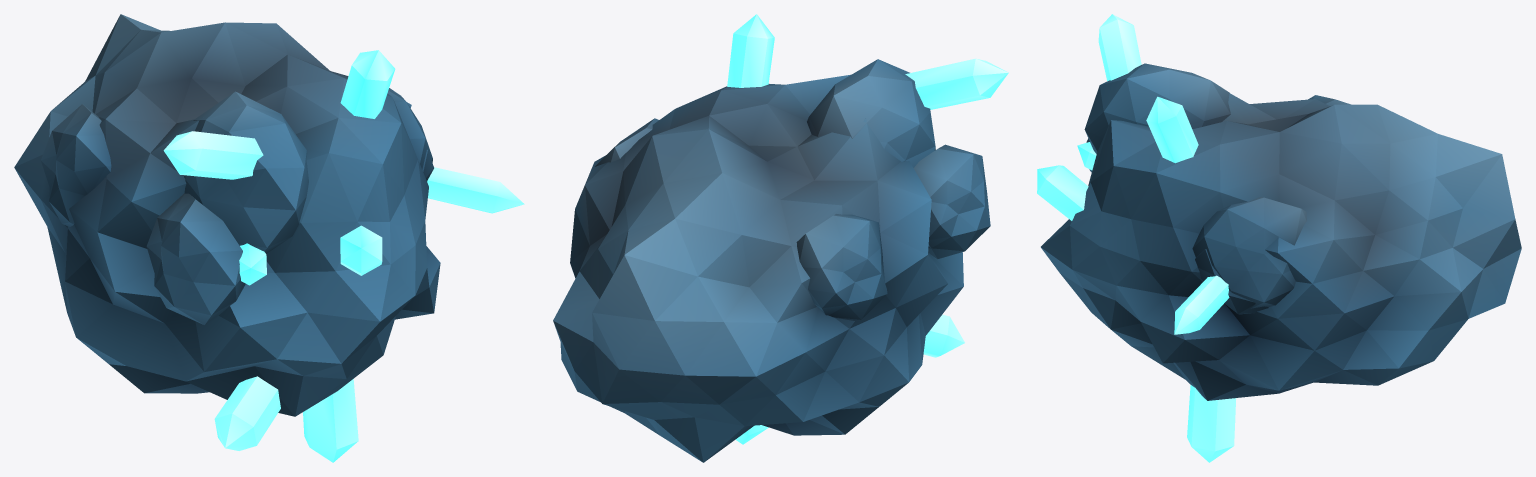
Rendered from cometa-hermano-juego.glb.
3 views of the same model, side by side, from view 1: azimuth 30°, elevation 25°; view 2: azimuth 150°, elevation 25°; view 3: azimuth 270°, elevation 25° (orthographic). The views are drawn at different scales.
Visible parts, largest first — view 1: Nucleo, Cristales; view 2: Nucleo, Cristales; view 3: Nucleo, Cristales.
Part boxes in pixels (<box>): Nucleo: <box>14,14,440,416</box>; Cristales: <box>163,50,524,462</box>; Nucleo: <box>553,59,990,462</box>; Cristales: <box>727,14,1008,444</box>; Nucleo: <box>1041,63,1521,400</box>; Cristales: <box>1037,14,1236,462</box>.
Size of the model in its own units: 1.81 by 1.88 by 2.22.
